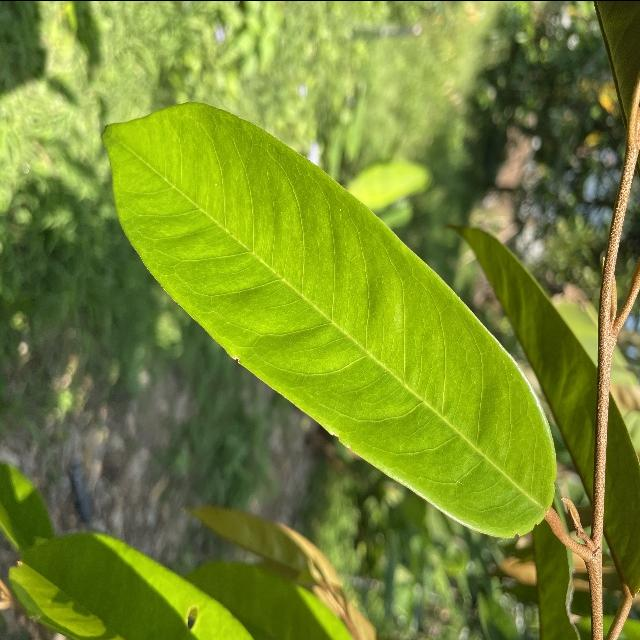No Disease: (92, 93, 567, 543)
